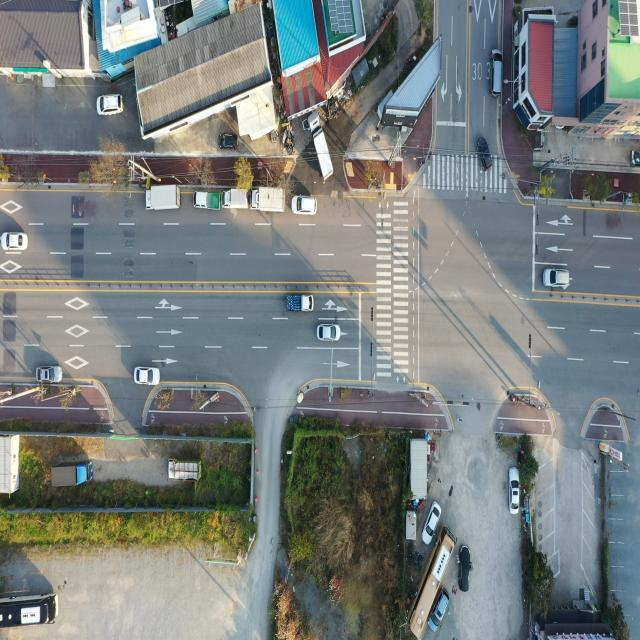car: (428, 586, 450, 638), (421, 503, 442, 550), (457, 543, 471, 595), (490, 44, 503, 100), (475, 133, 493, 173), (96, 93, 124, 116), (1, 232, 27, 252), (543, 268, 569, 288), (135, 365, 160, 385), (293, 196, 318, 216), (36, 364, 62, 382), (510, 468, 520, 513), (316, 324, 339, 341), (218, 134, 237, 150)
large_bus: (409, 526, 457, 640), (0, 586, 58, 628)
medium_truck: (310, 115, 336, 181), (49, 459, 94, 491), (146, 184, 183, 213), (249, 188, 286, 216)
small_truck: (167, 457, 205, 483), (220, 190, 250, 212), (194, 190, 222, 210), (286, 292, 312, 312)
